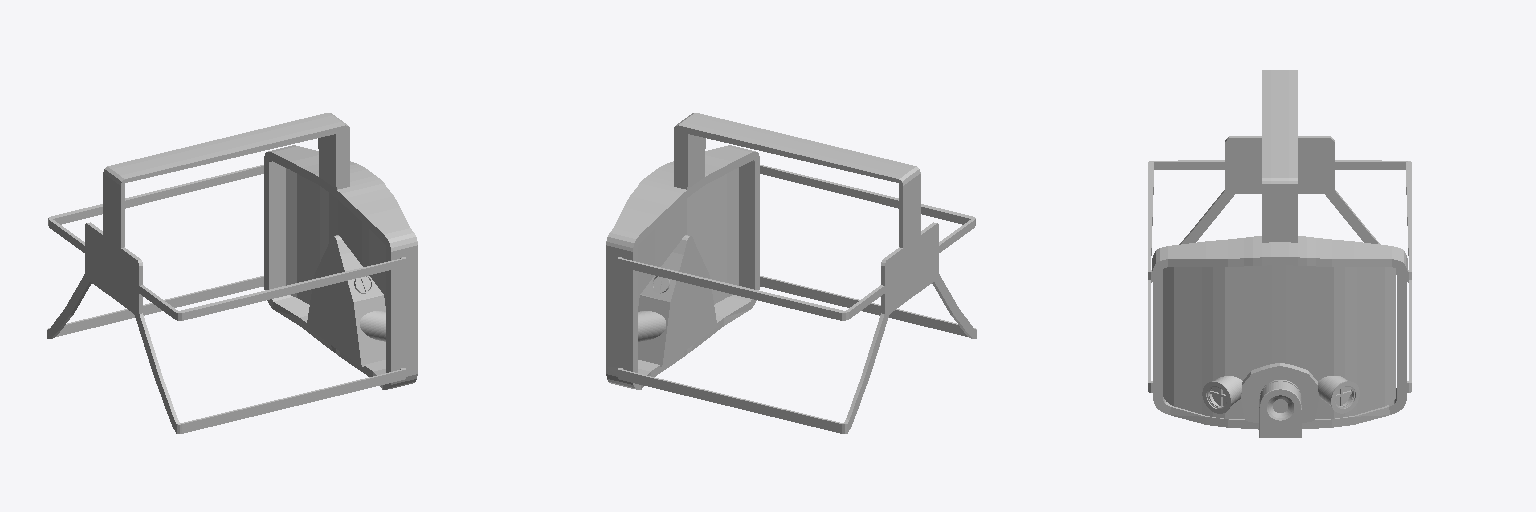
The model's file is mask_screen.obj.
3 views of the same model, side by side, from view 1: azimuth 30°, elevation 25°; view 2: azimuth 150°, elevation 25°; view 3: azimuth 270°, elevation 25° (orthographic).
Parts seen in each view (by area): view 1: Cilindre.002_Cilindre.004; view 2: Cilindre.002_Cilindre.004; view 3: Cilindre.002_Cilindre.004.
Part boxes in pixels (x1,y1,x2,y2): Cilindre.002_Cilindre.004: (47, 113, 417, 433); Cilindre.002_Cilindre.004: (606, 113, 976, 433); Cilindre.002_Cilindre.004: (1148, 70, 1411, 437).
Size of the model in its own units: 2.58 by 2.02 by 2.05.